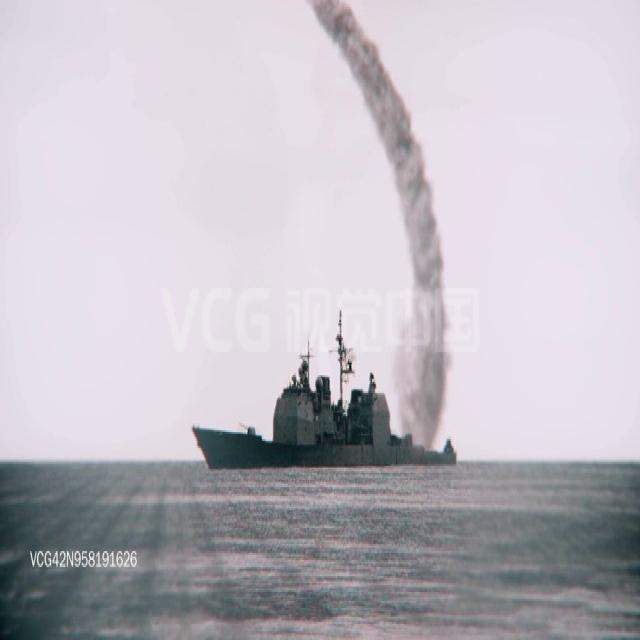navalvessels: (180, 308, 460, 466)
